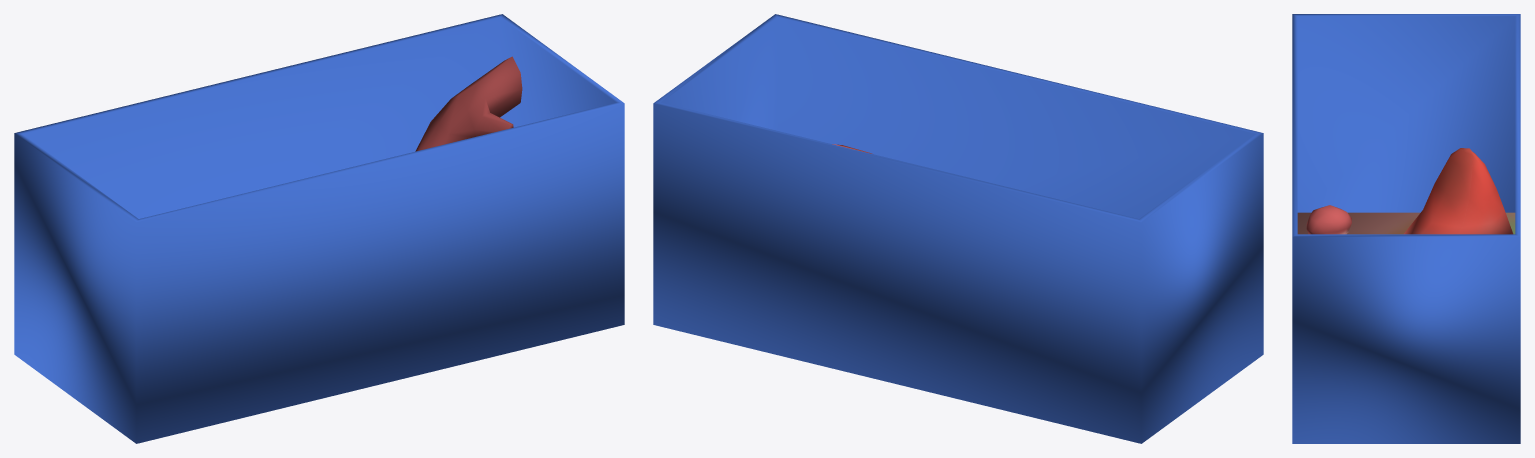
Rendered from Terrarium_MOD.fbx.
The picture shows the model from 3 angles, left to right: view 1: azimuth 30°, elevation 25°; view 2: azimuth 150°, elevation 25°; view 3: azimuth 270°, elevation 25°; orthographic projection. The views are drawn at different scales.
Visible parts, largest first — view 1: Terrarium, Ter_Inside; view 2: Terrarium; view 3: Terrarium, Ter_Inside.
Part boxes in pixels (x1,y1,x2,y2): Terrarium: (14,14,624,443); Ter_Inside: (415,56,522,151); Terrarium: (653,14,1263,443); Terrarium: (1292,14,1520,443); Ter_Inside: (1297,148,1515,234).
Bounding box in the file's own units: 76.2 × 33.02 × 33.02.
